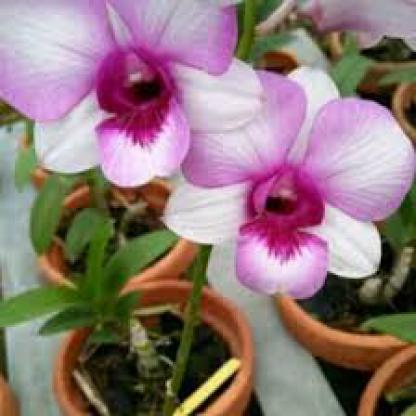ANGGREK: (5, 7, 411, 324)
